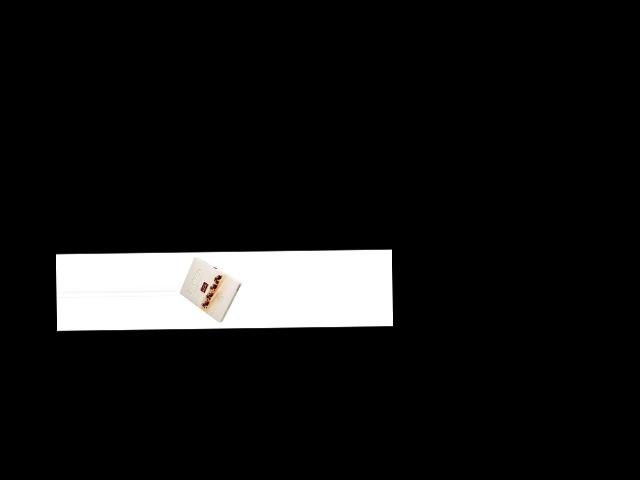chocolate: (180, 256, 243, 328)
